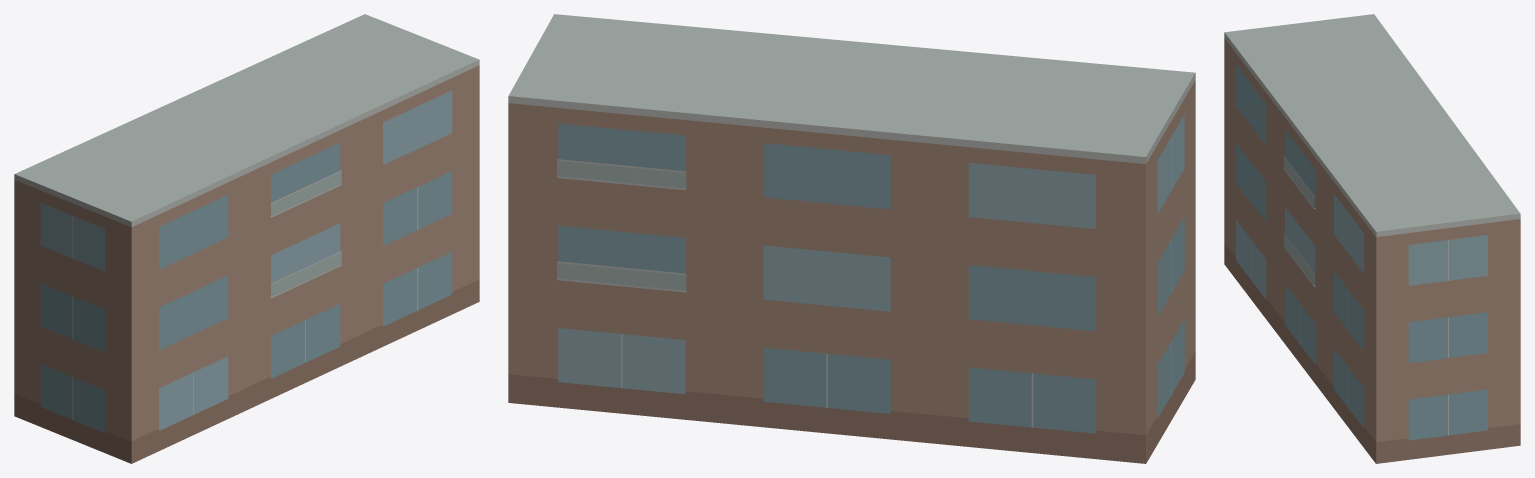
File: survey-upis-32622854.glb
3 renders of one model, left to right at view 1: azimuth 30°, elevation 25°; view 2: azimuth 150°, elevation 25°; view 3: azimuth 270°, elevation 25°, orthographic. The views are drawn at different scales.
Visible parts, largest first — view 1: survey-upis-32622854.tmp; view 2: survey-upis-32622854.tmp; view 3: survey-upis-32622854.tmp.
Boxes of the visible parts, bbox=[...] form: survey-upis-32622854.tmp: bbox=[14, 14, 479, 463]; survey-upis-32622854.tmp: bbox=[508, 14, 1195, 463]; survey-upis-32622854.tmp: bbox=[1224, 14, 1520, 463].
Bounding box in the file's own units: 21.36 × 10.6 × 12.27.
